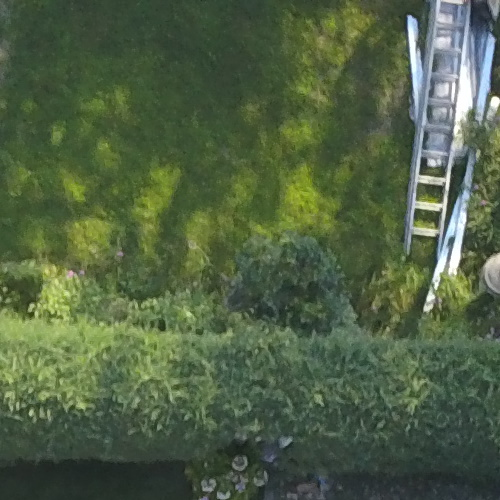ladder: (388, 1, 482, 276)
